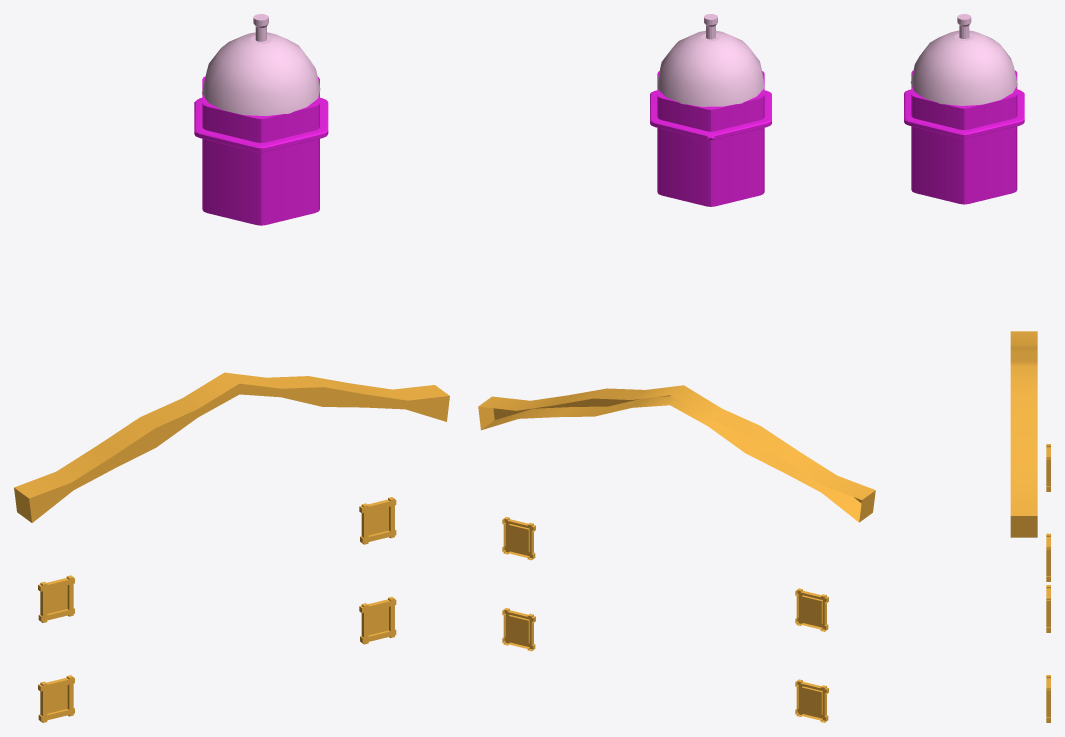
Rendered from 성 그외에.fbx.
3 views of the same model, side by side, from view 1: azimuth 30°, elevation 25°; view 2: azimuth 150°, elevation 25°; view 3: azimuth 270°, elevation 25° (orthographic). The views are drawn at different scales.
Parts seen in each view (by area): view 1: Shape002; view 2: Shape002; view 3: Shape002.
Part boxes in pixels (x1,y1,x2,y2): Shape002: (14,14,449,722); Shape002: (478,14,875,722); Shape002: (904,14,1050,722).
Bounding box in the file's own units: 4081 × 6458 × 1371.
